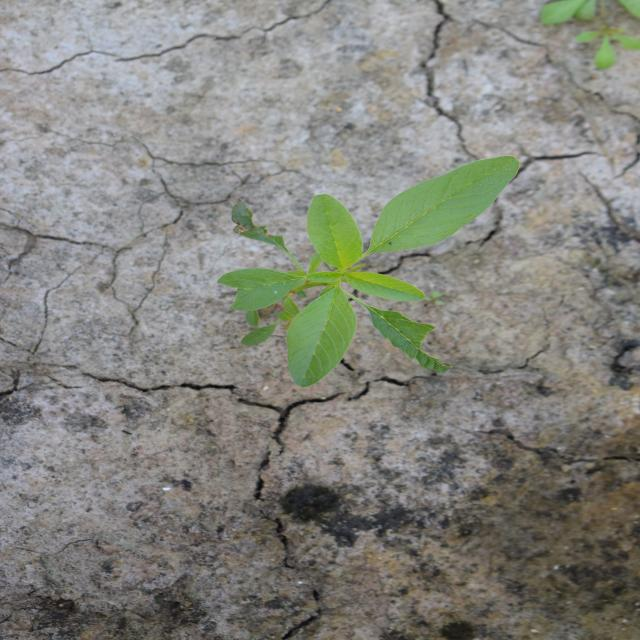Carpetweed: (538, 0, 635, 73)
Waterhemp: (215, 154, 522, 388)
